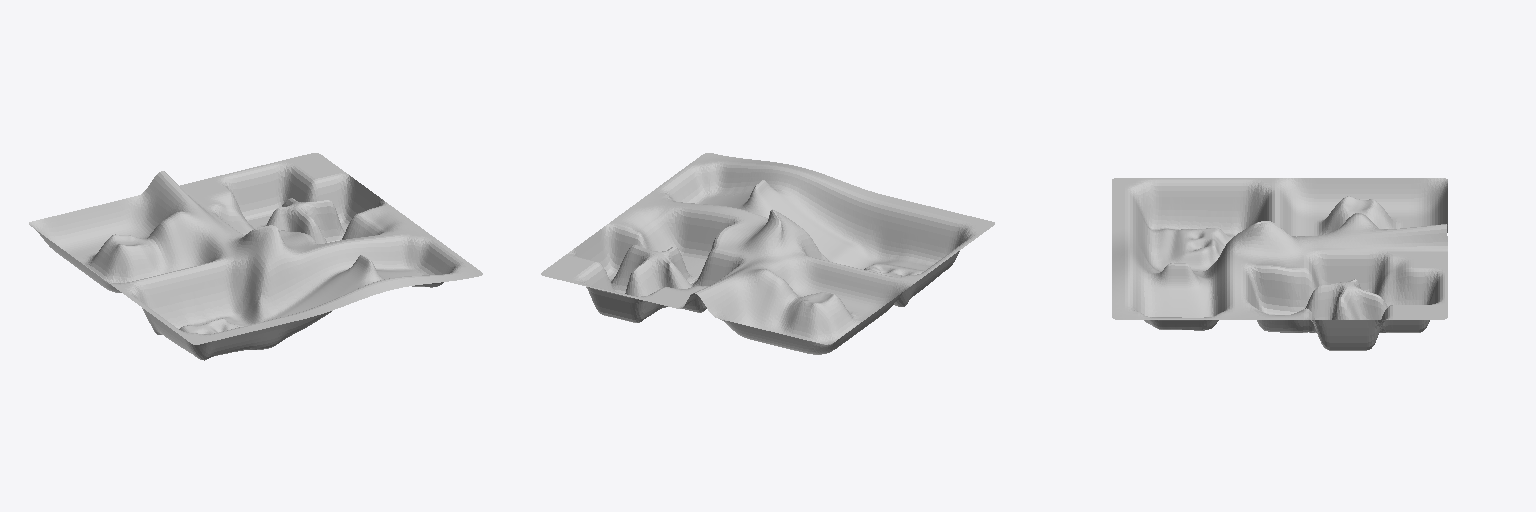
Rendered from Map 01.obj.
The picture shows the model from 3 angles: view 1: azimuth 30°, elevation 25°; view 2: azimuth 150°, elevation 25°; view 3: azimuth 270°, elevation 25°; orthographic projection.
Parts seen in each view (by area): view 1: Plane; view 2: Plane; view 3: Plane.
Boxes of the visible parts, <box> form: Plane: <box>29,153,482,360</box>; Plane: <box>541,153,994,354</box>; Plane: <box>1112,178,1447,350</box>.
Bounding box in the file's own units: 15.99 × 3.89 × 15.99.